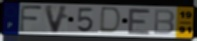5: (77, 6, 95, 33)
B: (152, 9, 176, 36)
D: (98, 6, 124, 35)
E: (127, 7, 153, 36)
F: (18, 4, 44, 33)
V: (43, 4, 70, 34)
